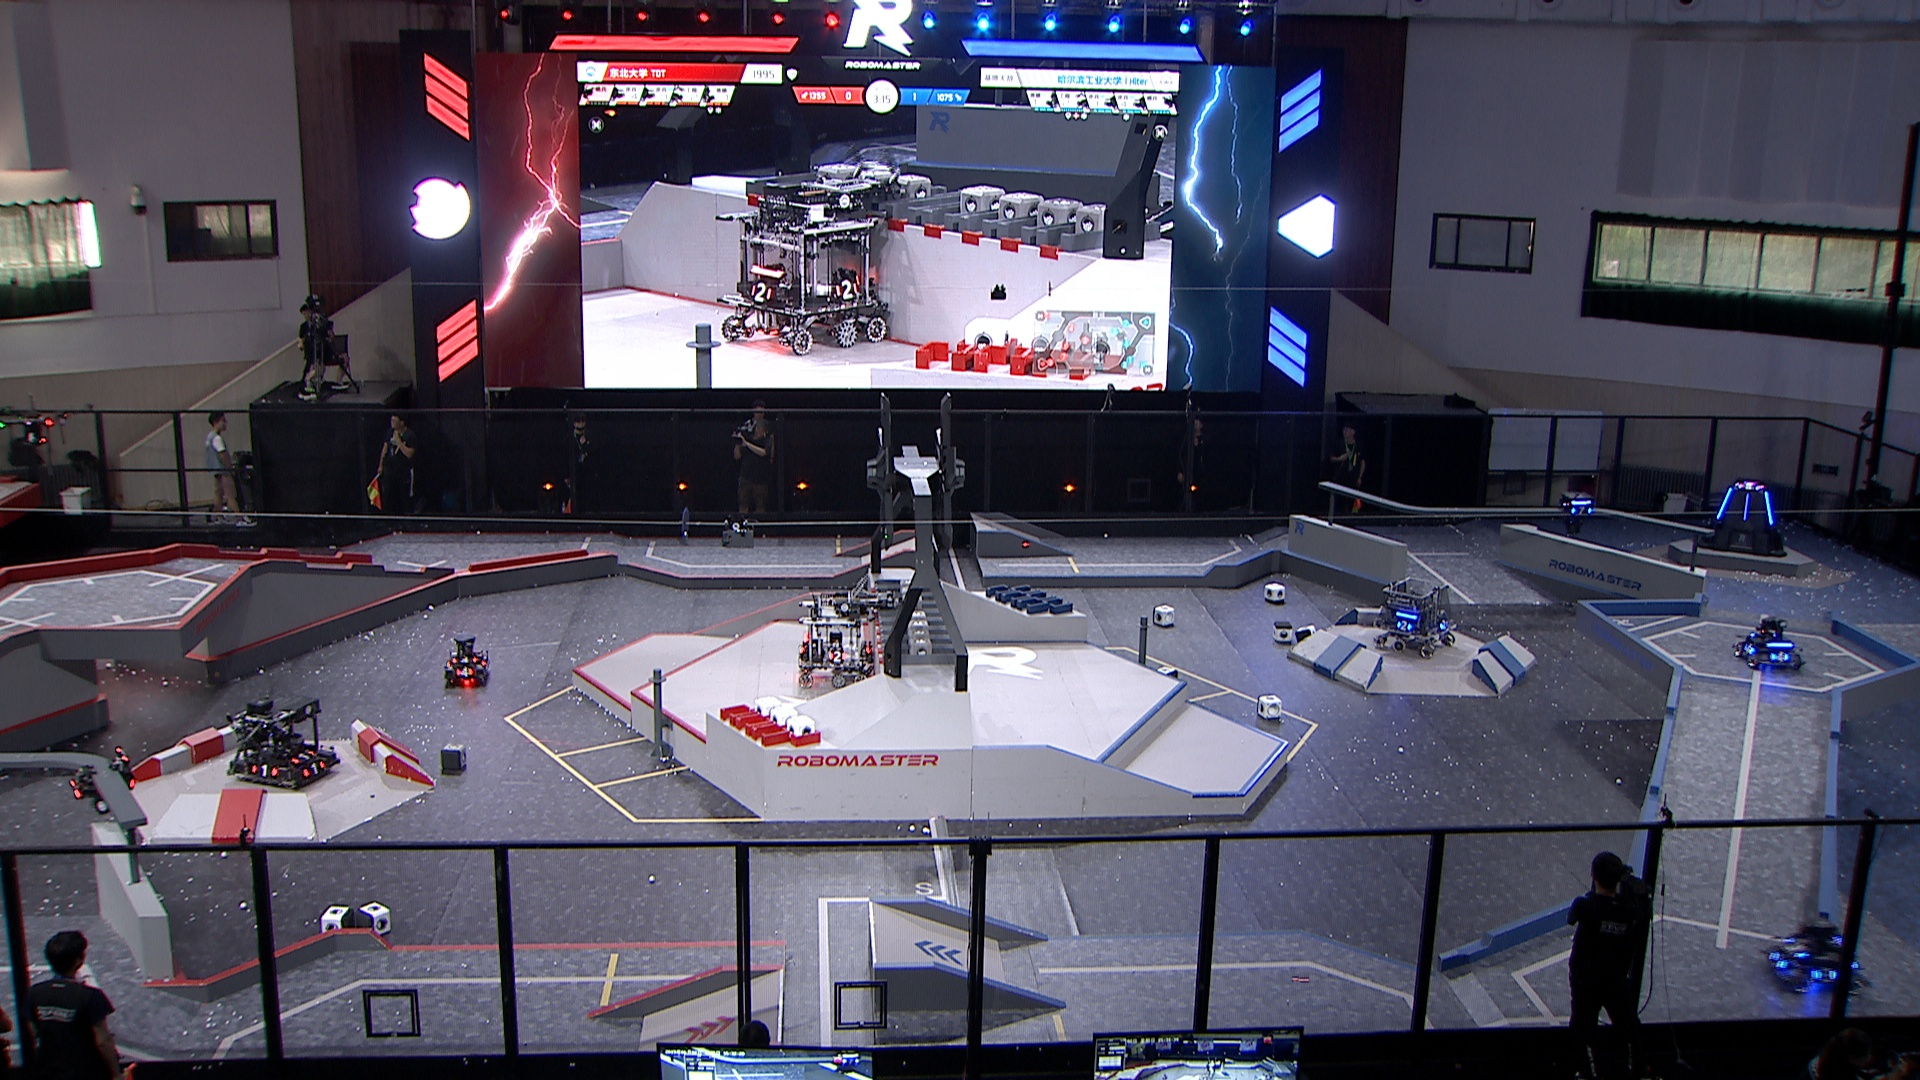armor: (1784, 935, 1811, 964), (1764, 949, 1789, 977), (1717, 484, 1735, 518), (286, 745, 318, 765), (249, 760, 281, 779), (297, 756, 324, 778), (1811, 965, 1840, 986), (65, 774, 84, 802), (1759, 495, 1775, 526), (827, 647, 851, 665), (448, 651, 479, 665), (1768, 647, 1789, 665), (1741, 493, 1753, 522), (1569, 505, 1596, 517), (1741, 640, 1756, 659), (451, 666, 472, 679), (1395, 618, 1414, 633), (1437, 615, 1452, 633)
base: (1693, 477, 1784, 556)
car: (222, 698, 338, 789), (1756, 913, 1871, 997), (794, 585, 882, 687), (1367, 568, 1460, 659), (1730, 612, 1807, 671), (440, 636, 491, 688)
ignore: (711, 167, 889, 356), (1735, 480, 1766, 493)
watcher: (63, 745, 140, 818), (1556, 489, 1600, 535)
